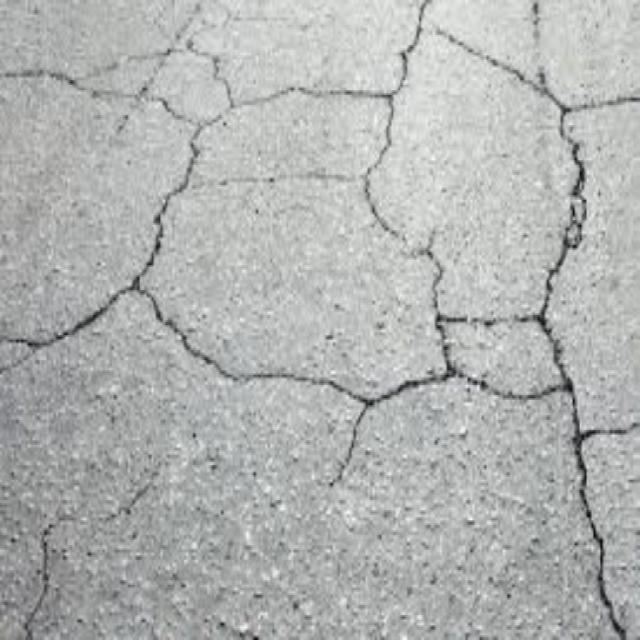crack: (186, 308, 575, 481), (3, 1, 241, 188), (2, 188, 182, 376), (27, 463, 164, 638), (539, 83, 639, 303), (567, 389, 639, 638), (242, 82, 396, 184), (364, 184, 446, 309), (454, 2, 548, 87), (396, 0, 454, 95)
